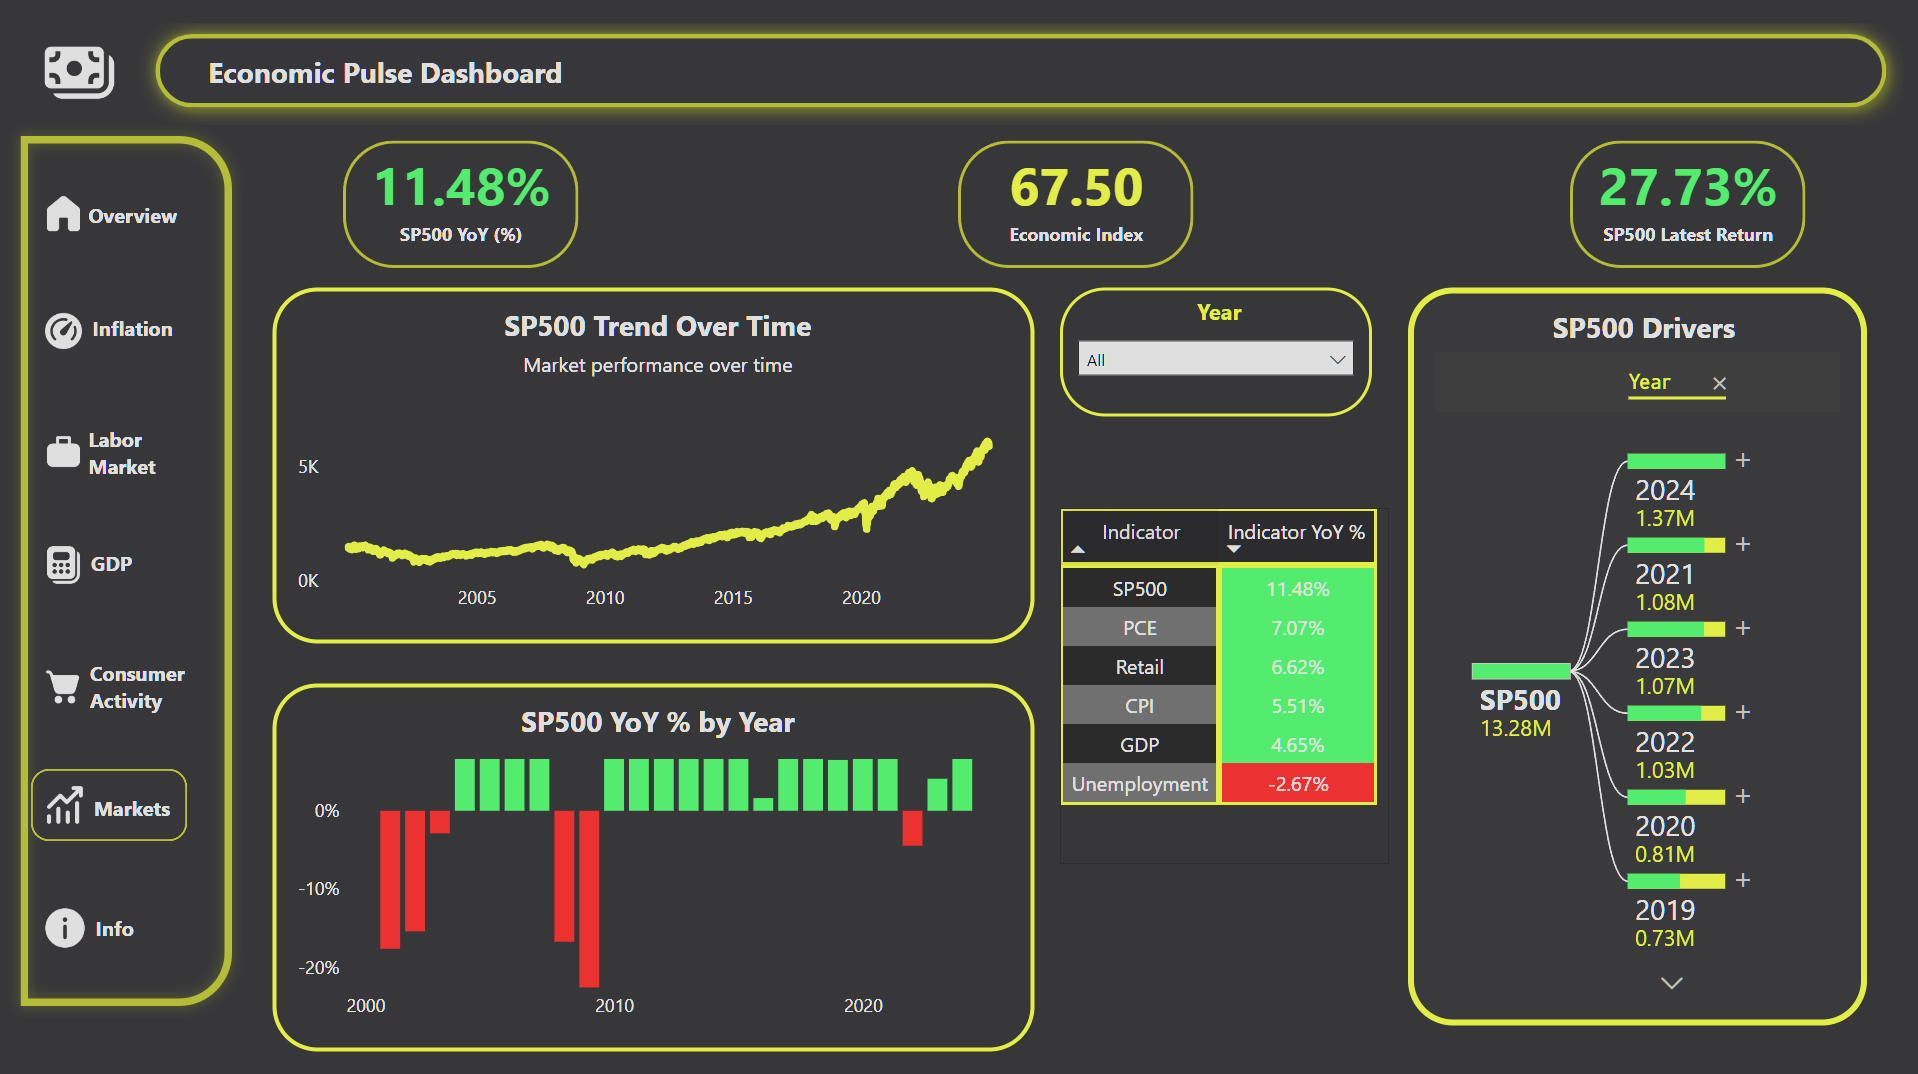

Layout of this report page (visuals, bound fields, positions):
{"tool":"powerbi","page":{"name":"Markets","canvas":[1280,720],"ordinal":5},"visuals":[{"type":"shape","title":"Economic Pulse Dashboard","box":[94.1,14.9,1176.2,70.8],"z":0},{"type":"shape","box":[1048,96.2,156.7,85.2],"z":0,"group":"g6"},{"type":"shape","box":[640.4,96.4,156.7,85.2],"z":0,"group":"g11"},{"type":"shape","box":[229.6,97.1,156.7,85.2],"z":0,"group":"g7"},{"type":"image","box":[29.2,195.4,29.6,58.1],"z":0,"group":"g4"},{"type":"group","id":"g1","title":"Group 2","box":[1048,93.6,156.7,90.5],"z":1000},{"type":"card","fields":{"Values":["Measures_YoY.SP500 YoY %"]},"box":[1050.7,93.6,151.3,90.5],"z":1000,"group":"g6"},{"type":"card","fields":{"Values":["Measures_Scoring.Economic Index"]},"box":[643.1,93.8,151.3,90.5],"z":1000,"group":"g11"},{"type":"card","fields":{"Values":["Measures_YoY.SP500 YoY %"]},"box":[232.3,94.5,151.3,90.5],"z":1000,"group":"g7"},{"type":"textbox","box":[38.6,207.6,102.6,51.8],"z":1000,"group":"g4"},{"type":"group","id":"g2","title":"Group 2","box":[229.6,94.5,157.1,90.6],"z":2000},{"type":"shape","box":[17.4,201,104.4,47.4],"z":2000,"group":"g4"},{"type":"image","box":[14.4,23.2,80,54.4],"z":3000},{"type":"shape","box":[6.6,85.8,157.2,595.8],"z":4000},{"type":"image","box":[29.2,116.7,29.6,58.1],"z":4000,"group":"g3"},{"type":"textbox","box":[56.5,436.7,76.2,69.6],"z":4000,"group":"g10"},{"type":"group","id":"g3","title":"Group 3","box":[23.4,116.7,112.1,79.1],"z":5000},{"type":"image","box":[29.2,351.2,29.6,58.1],"z":5000,"group":"g5"},{"type":"group","id":"g4","title":"Group 4","box":[17.4,195.4,123.8,64],"z":6000},{"type":"image","box":[29.2,276.1,29.6,58.1],"z":6000,"group":"g16"},{"type":"group","id":"g5","title":"Group 6","box":[29.2,351.2,80.9,69.6],"z":6000,"group":"g8"},{"type":"image","box":[29.2,432,29.6,58.1],"z":6000,"group":"g10"},{"type":"group","id":"g6","title":"Group 1","box":[1048,93.6,156.7,90.5],"z":7000,"group":"g1"},{"type":"group","id":"g7","title":"Group 1","box":[229.6,94.5,156.7,90.5],"z":7000,"group":"g2"},{"type":"textbox","box":[44.2,131.8,91.3,64],"z":7000,"group":"g3"},{"type":"group","id":"g8","title":"Group 10","box":[14.4,351.2,104.4,69.6],"z":7000},{"type":"image","box":[29.2,511.4,29.6,58.1],"z":7000,"group":"g12"},{"type":"textbox","box":[41.4,364.4,68.7,56.5],"z":8000,"group":"g5"},{"type":"group","id":"g9","title":"Group 11","box":[25.2,432,107.5,74.4],"z":8000},{"type":"group","id":"g10","title":"Group 7","box":[29.2,432,103.5,74.4],"z":8000,"group":"g9"},{"type":"group","id":"g11","title":"Group 1","box":[640.4,93.8,153.9,91.3],"z":9000},{"type":"group","id":"g12","title":"Group 8","box":[29.2,511.4,118.6,76.2],"z":9000,"group":"g13"},{"type":"image","box":[29.2,593.2,30.6,58.1],"z":9000,"group":"g14"},{"type":"group","id":"g13","title":"Group 12","box":[22.2,511.4,125.6,76.2],"z":10000},{"type":"textbox","box":[30.1,527.4,117.6,60.2],"z":10000,"group":"g12"},{"type":"group","id":"g14","title":"Group 9","box":[29.2,593.2,96.9,59.3],"z":10000,"group":"g15"},{"type":"shape","box":[23.4,124.2,104.4,47.4],"z":10001,"group":"g3"},{"type":"shape","box":[23.4,281.4,93,47.4],"z":11000,"group":"g16"},{"type":"group","id":"g15","title":"Group 13","box":[14.4,593.2,111.7,59.3],"z":11000},{"type":"textbox","box":[29.2,607.3,96.9,45.2],"z":11000,"group":"g14"},{"type":"textbox","box":[54.6,280.8,90.4,89.4],"z":12000},{"type":"shape","box":[14.4,357,104.4,47.4],"z":12002,"group":"g8"},{"type":"shape","box":[25.2,437.4,104.4,47.4],"z":12004,"group":"g9"},{"type":"shape","box":[22.2,516.6,104.4,47.4],"z":12006,"group":"g13"},{"type":"shape","box":[14.4,598.8,104.4,47.4],"z":12008,"group":"g15"},{"type":"group","id":"g16","title":"Group 5","box":[23.4,276.1,93,58.1],"z":13000},{"type":"decompositionTreeVisual","title":"SP500 Drivers","fields":{"ExplainBy":["Calendar.Year","Labor_Market_Merged.GDP_YoY","Labor_Market_Merged.Unemployment_YoY","Labor_Market_Merged.PCE_YoY","Labor_Market_Merged.CPI_YoY","Labor_Market_Merged.Retail_YoY"],"Analyze":["Sum(SP500.SP500_Value)"]},"box":[940.2,195.1,305.6,492.1],"z":14000},{"type":"lineChart","title":"SP500 Trend Over Time","fields":{"Category":["Calendar.Date"],"Y":["Sum(SP500.SP500_Value)"]},"box":[183,195.1,507.6,236.5],"z":15000},{"type":"pivotTable","fields":{"Rows":["Indicators.Indicator"],"Values":["Measures_YoY.Indicator YoY %"]},"box":[707.9,341.9,219.3,237.4],"z":16000},{"type":"slicer","title":"Year","fields":{"Values":["Calendar.Year"]},"box":[707.9,195.1,208.1,86.3],"z":17000},{"type":"clusteredColumnChart","title":"SP500 YoY % by Year","fields":{"Category":["Calendar.Year"],"Y":["Measures_YoY.SP500 YoY %"]},"box":[183,459.3,507.6,244.3],"z":18000}]}

Visuals, with their boxes in screenshot pixels (x1, y1, x2, y2), scaled from the page's 1280x720 canvas onto the 1918x1074 screenshot:
"Economic Pulse Dashboard" shape: select_region(141, 22, 1903, 128)
shape: select_region(1570, 143, 1805, 271)
shape: select_region(960, 144, 1194, 271)
shape: select_region(344, 145, 579, 272)
image: select_region(44, 291, 88, 378)
"Group 2" group: select_region(1570, 140, 1805, 275)
card - Measures_YoY.SP500 YoY %: select_region(1574, 140, 1801, 275)
card - Measures_Scoring.Economic Index: select_region(964, 140, 1190, 275)
card - Measures_YoY.SP500 YoY %: select_region(348, 141, 575, 276)
textbox: select_region(58, 310, 212, 387)
"Group 2" group: select_region(344, 141, 579, 276)
shape: select_region(26, 300, 183, 371)
image: select_region(22, 35, 141, 116)
shape: select_region(10, 128, 245, 1017)
image: select_region(44, 174, 88, 261)
textbox: select_region(85, 651, 199, 755)
"Group 3" group: select_region(35, 174, 203, 292)
image: select_region(44, 524, 88, 611)
"Group 4" group: select_region(26, 291, 212, 387)
image: select_region(44, 412, 88, 499)
"Group 6" group: select_region(44, 524, 165, 628)
image: select_region(44, 644, 88, 731)
"Group 1" group: select_region(1570, 140, 1805, 275)
"Group 1" group: select_region(344, 141, 579, 276)
textbox: select_region(66, 197, 203, 292)
"Group 10" group: select_region(22, 524, 178, 628)
image: select_region(44, 763, 88, 850)
textbox: select_region(62, 544, 165, 628)
"Group 11" group: select_region(38, 644, 199, 755)
"Group 7" group: select_region(44, 644, 199, 755)
"Group 1" group: select_region(960, 140, 1190, 276)
"Group 8" group: select_region(44, 763, 221, 877)
image: select_region(44, 885, 90, 972)
"Group 12" group: select_region(33, 763, 221, 877)
textbox: select_region(45, 787, 221, 877)
"Group 9" group: select_region(44, 885, 189, 973)
shape: select_region(35, 185, 192, 256)
shape: select_region(35, 420, 174, 490)
"Group 13" group: select_region(22, 885, 189, 973)
textbox: select_region(44, 906, 189, 973)
textbox: select_region(82, 419, 217, 552)
shape: select_region(22, 533, 178, 603)
shape: select_region(38, 652, 194, 723)
shape: select_region(33, 771, 190, 841)
shape: select_region(22, 893, 178, 964)
"Group 5" group: select_region(35, 412, 174, 499)
"SP500 Drivers" decompositionTreeVisual: select_region(1409, 291, 1867, 1025)
"SP500 Trend Over Time" lineChart: select_region(274, 291, 1035, 644)
pivotTable - Indicators.Indicator x Measures_YoY.Indicator YoY %: select_region(1061, 510, 1389, 864)
"Year" slicer: select_region(1061, 291, 1373, 420)
"SP500 YoY % by Year" clusteredColumnChart: select_region(274, 685, 1035, 1050)
